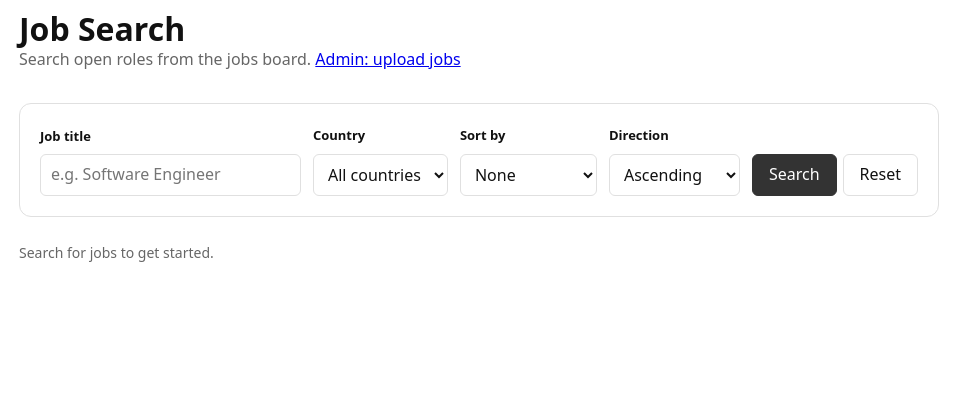
App › clears results and status on reset
What coordinates should you click on to do the following:
click the button "Search"
I would click on:
 (794, 175)
Its box is [752,154,836,196].
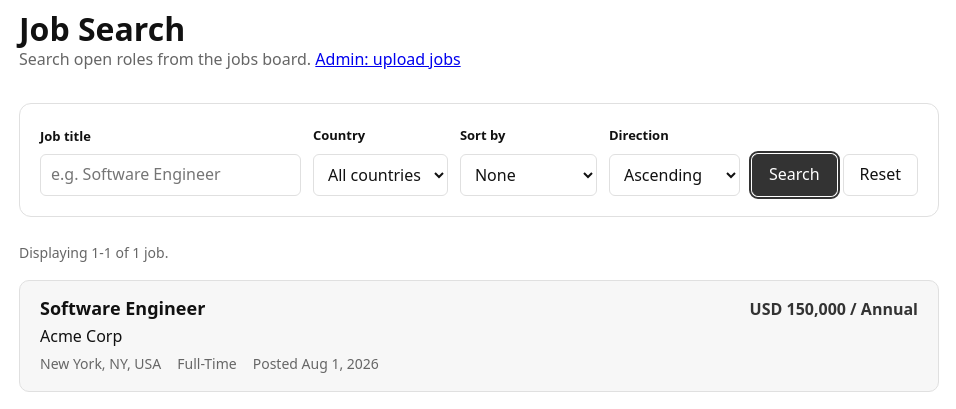
Expected: the number of list items is 1, [19,280,939,392]
What coordinates should you click on to do the following:
click the button "Reset"
I would click on:
 (880, 175)
Its box is [842,154,918,196].
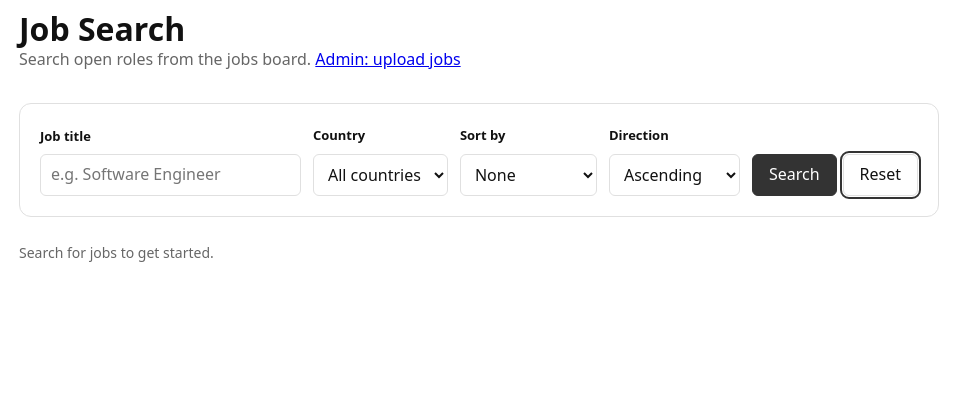
Expected: the message reads "Search for jobs to get started.", [19,243,214,262]
Expected: no list items are shown
